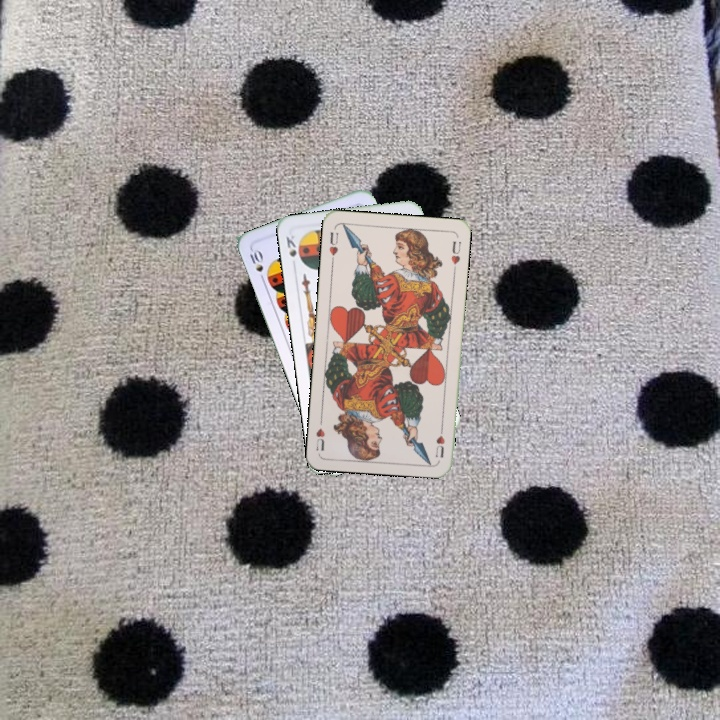HU: (431, 422, 447, 460), (325, 228, 341, 265)
S10: (246, 245, 267, 285)
SK: (282, 231, 299, 260)
